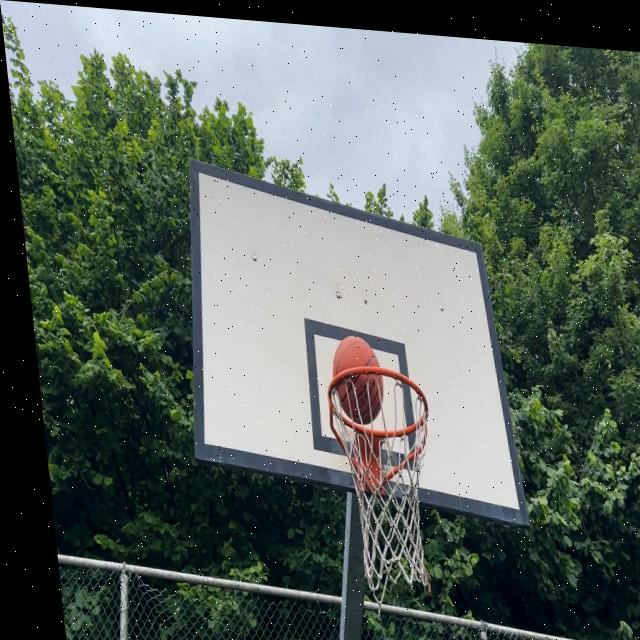rebound_hit: (328, 330, 391, 426)
